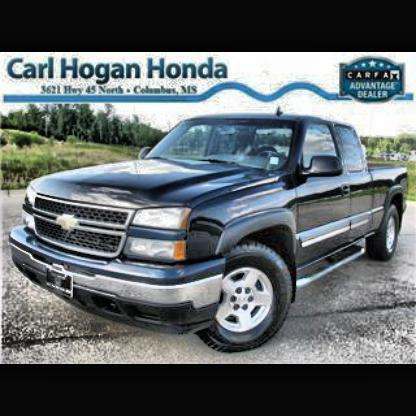Chevrolet Silverado 1500 Classic Extended Cab 2007: (9, 114, 412, 358)
